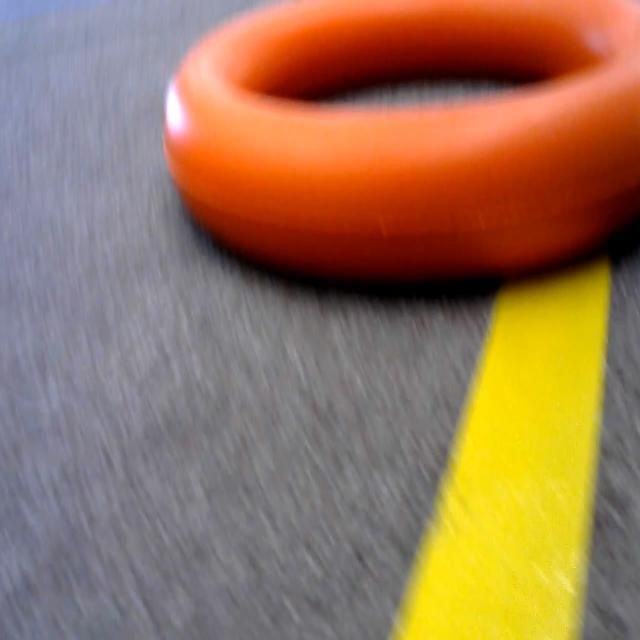note: (170, 0, 640, 293)
